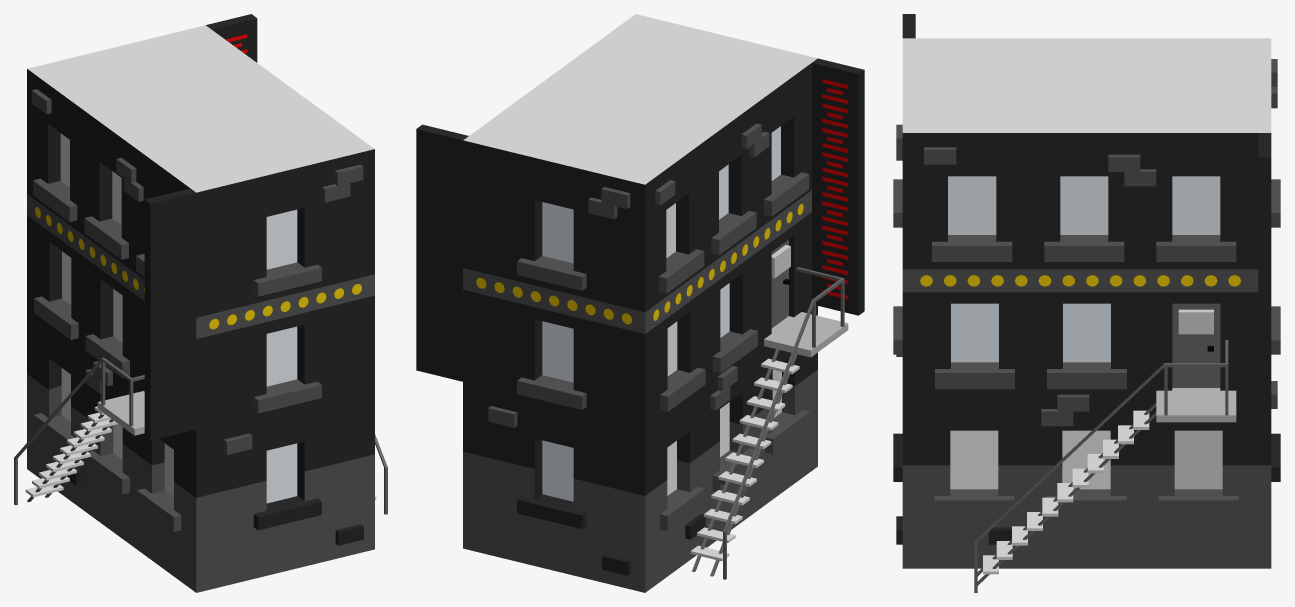
File: Edificio 19.fbx
The picture shows the model from 3 angles, left to right: view 1: azimuth 30°, elevation 25°; view 2: azimuth 150°, elevation 25°; view 3: azimuth 270°, elevation 25°; orthographic projection. The views are drawn at different scales.
Visible parts, largest first — view 1: Pared 1 [7602], [285] (×2), [7629]; view 2: [285] (×2), Pared 1 [7596], [7629]; view 3: [285], [7629], Pared 1 [7596], Pared 1 [7602].
Part boxes in pixels (x1,y1,x2,y2): Pared 1 [7602]: (196,149,374,592); [285] (×2): (14,14,387,592); [7629]: (27,25,374,192); [285] (×2): (416,58,864,592); Pared 1 [7596]: (463,140,645,592); [7629]: (463,14,817,184); [285]: (902,133,1271,592); [7629]: (902,38,1271,132); Pared 1 [7596]: (1271,59,1280,481); Pared 1 [7602]: (893,124,902,544).
Bounding box in the file's own units: 417 × 476 × 591.
